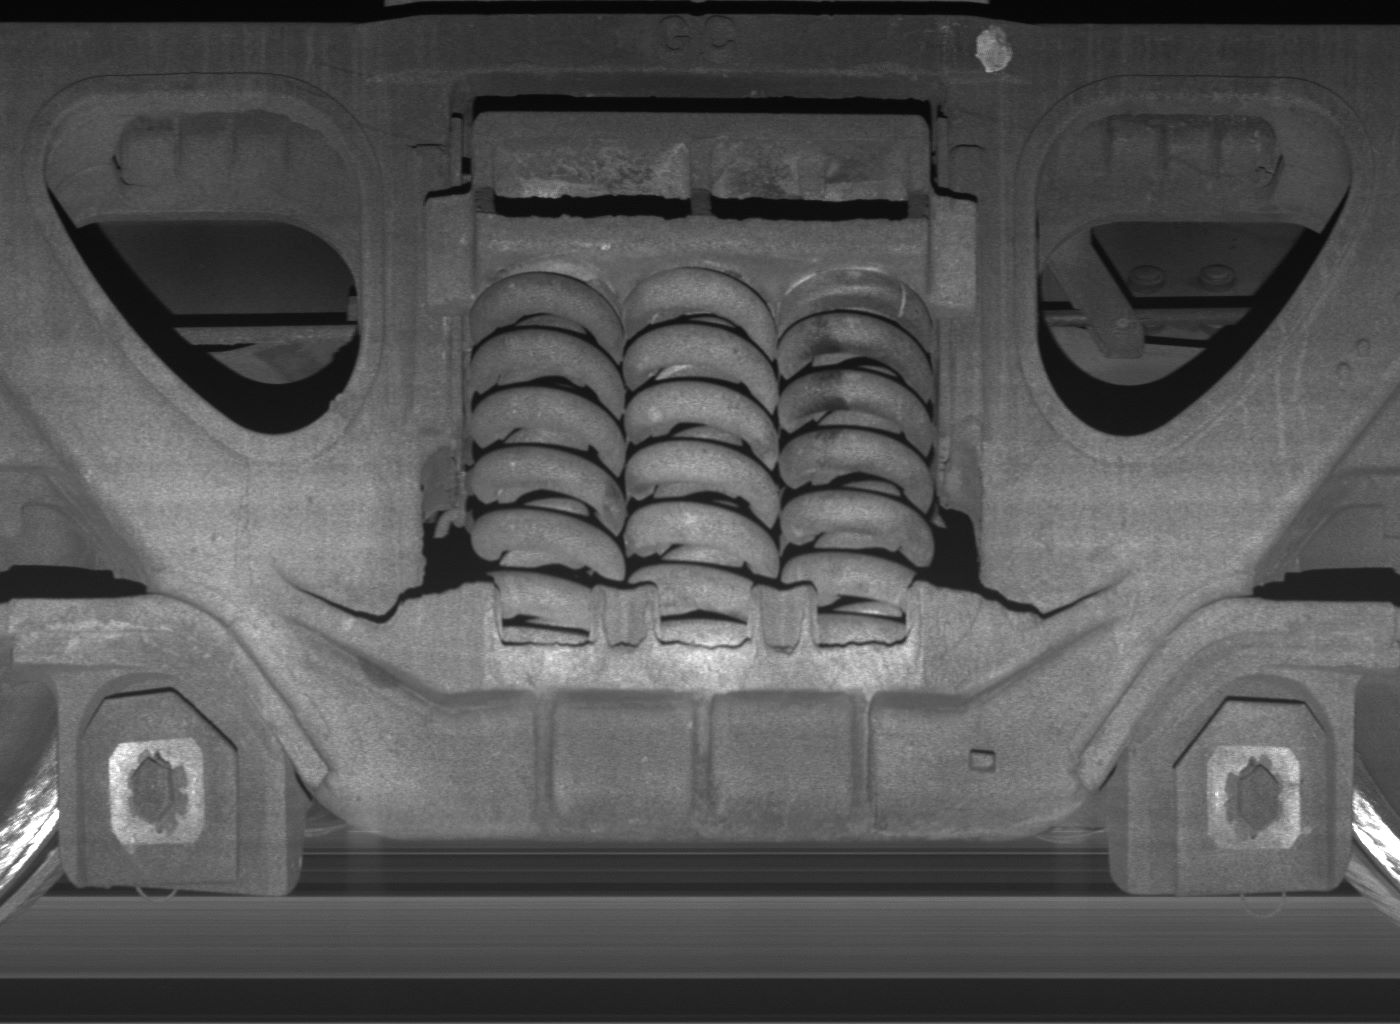Locking plate: (59, 672, 292, 899)
normal: (1130, 672, 1355, 892)
